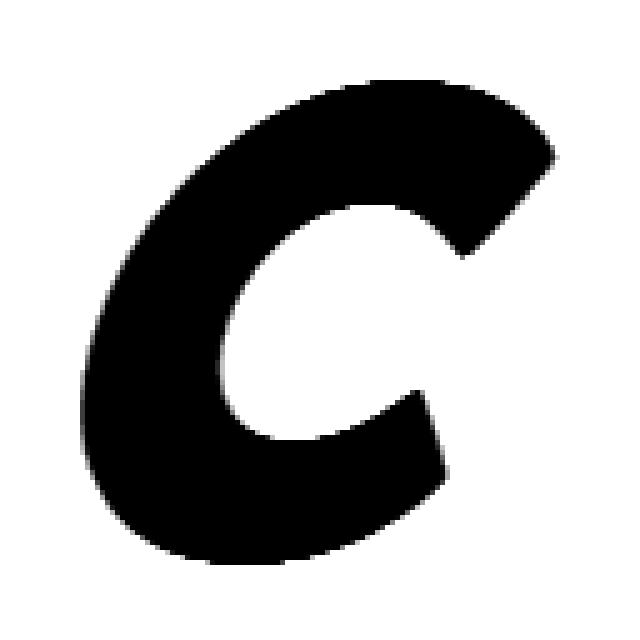C: (70, 70, 560, 570)
